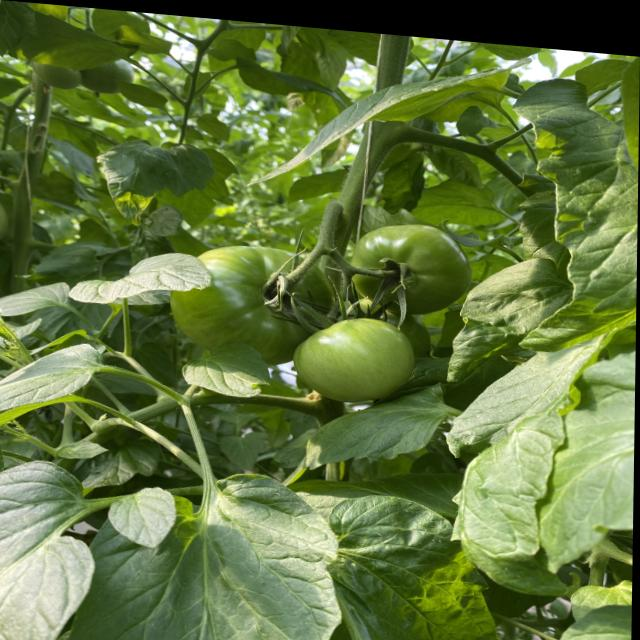yesil: (164, 197, 527, 427)
